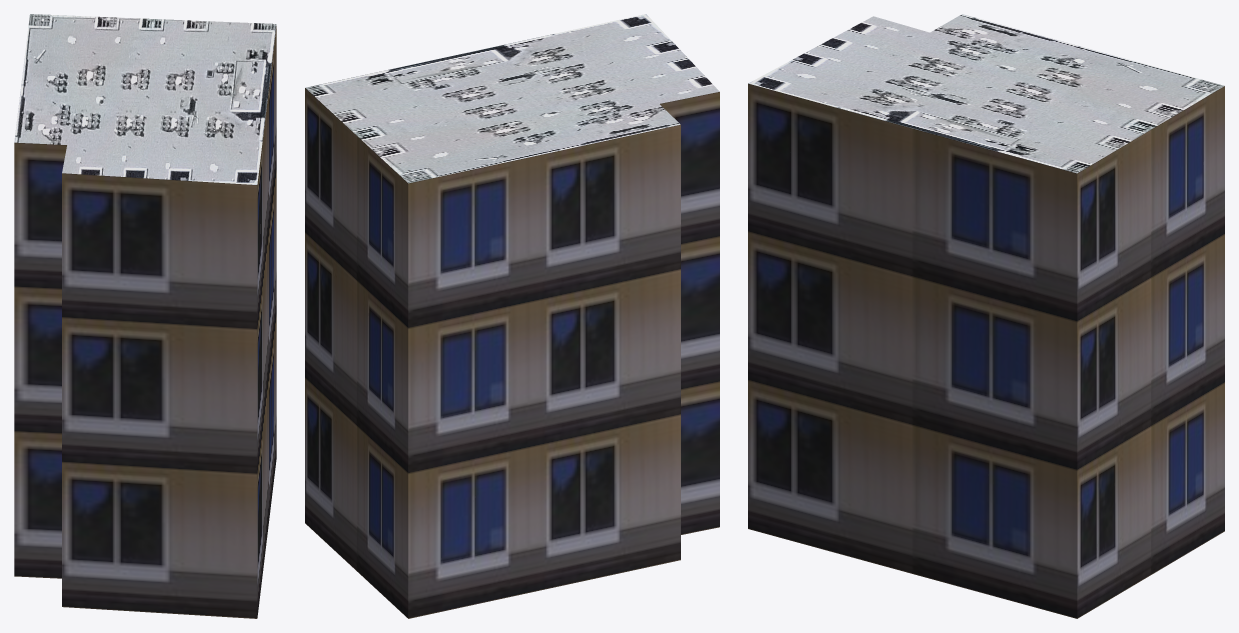
The model's file is ResTex__4126.fbx.
The picture shows the model from 3 angles, left to right: view 1: azimuth 30°, elevation 25°; view 2: azimuth 150°, elevation 25°; view 3: azimuth 270°, elevation 25°; orthographic projection. The views are drawn at different scales.
Visible parts, largest first — view 1: CityEngineMaterial_5_m, CityEngineMaterial_m; view 2: CityEngineMaterial_5_m, CityEngineMaterial_m; view 3: CityEngineMaterial_5_m, CityEngineMaterial_m.
Boxes of the visible parts, x1,y1,x2,y2 form: CityEngineMaterial_5_m: (14,26,276,618); CityEngineMaterial_m: (14,14,276,184); CityEngineMaterial_5_m: (305,88,719,618); CityEngineMaterial_m: (305,14,719,183); CityEngineMaterial_5_m: (748,83,1224,618); CityEngineMaterial_m: (748,14,1224,173).
Size of the model in its own units: 6.91 by 9 by 8.73.
2 materials, 2 textured.
